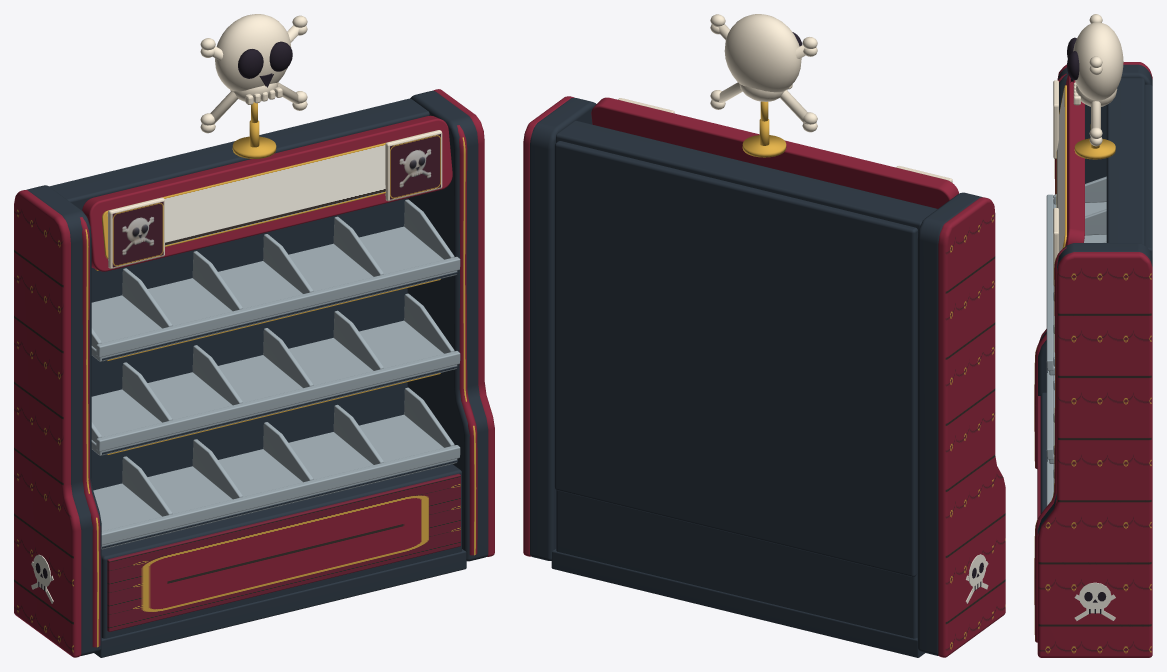
The model's file is TH_PIRATE.fbx.
3 views of the same model, side by side, from view 1: azimuth 30°, elevation 25°; view 2: azimuth 150°, elevation 25°; view 3: azimuth 270°, elevation 25° (orthographic). The views are drawn at different scales.
Parts seen in each view (by area): view 1: BaseFrontInset, Left_PaintedPanel, BackPanel.001, Right_StructuralWall, Tray_01, Tray_02, Tray_03, HeaderFace, HeaderBorder, TopCrossRail, Left_StructuralWall, ClosedSolidBase (+33 smaller); view 2: BackPanel.001, Left_PaintedPanel, ClosedSolidBase, Right_StructuralWall, HeaderBorder, Left_StructuralWall, TopCrossRail, LowerPlinth, Ivory skull, Right_PaintedPanel, TopperMount; view 3: Right_PaintedPanel, TopCrossRail, Ivory skull, HeaderBorder, Left_StructuralWall, HeaderFace, FrontLip_01, BackPanel.001, RightHousing, Right_StructuralWall, ClosedSolidBase, FrontLip_02 (+14 smaller).
Part boxes in pixels (x1=…): BaseFrontInset: x1=107, y1=473, x2=460, y2=631; Left_PaintedPanel: x1=14, y1=190, x2=81, y2=657; BackPanel.001: x1=91, y1=198, x2=407, y2=490; Right_StructuralWall: x1=407, y1=90, x2=488, y2=561; Tray_01: x1=91, y1=226, x2=457, y2=361; Tray_02: x1=91, y1=320, x2=457, y2=455; Tray_03: x1=93, y1=414, x2=457, y2=549; HeaderFace: x1=102, y1=131, x2=430, y2=258; HeaderBorder: x1=82, y1=115, x2=452, y2=271; TopCrossRail: x1=49, y1=98, x2=429, y2=210; Left_StructuralWall: x1=26, y1=185, x2=101, y2=655; ClosedSolidBase: x1=101, y1=464, x2=461, y2=638; BackPanel.001: x1=554, y1=141, x2=917, y2=576; Left_PaintedPanel: x1=938, y1=197, x2=1005, y2=657; ClosedSolidBase: x1=556, y1=490, x2=917, y2=638; Right_StructuralWall: x1=530, y1=97, x2=596, y2=560; HeaderBorder: x1=591, y1=97, x2=958, y2=208; Left_StructuralWall: x1=917, y1=192, x2=982, y2=655; TopCrossRail: x1=556, y1=120, x2=937, y2=235; LowerPlinth: x1=551, y1=549, x2=924, y2=657; Ivory skull: x1=724, y1=14, x2=801, y2=92; Right_PaintedPanel: x1=523, y1=96, x2=573, y2=556; TopperMount: x1=742, y1=135, x2=786, y2=157; Right_PaintedPanel: x1=1037, y1=252, x2=1152, y2=657; TopCrossRail: x1=1106, y1=78, x2=1144, y2=245; Ivory skull: x1=1073, y1=22, x2=1123, y2=100; HeaderBorder: x1=1065, y1=74, x2=1084, y2=246; Left_StructuralWall: x1=1038, y1=64, x2=1152, y2=395; HeaderFace: x1=1056, y1=85, x2=1066, y2=252; FrontLip_01: x1=1046, y1=194, x2=1053, y2=370; BackPanel.001: x1=1145, y1=84, x2=1152, y2=257; RightHousing: x1=1034, y1=247, x2=1066, y2=642; Right_StructuralWall: x1=1037, y1=243, x2=1152, y2=534; ClosedSolidBase: x1=1040, y1=392, x2=1046, y2=513; FrontLip_02: x1=1046, y1=362, x2=1053, y2=459.
Bounding box in the file's own units: 3.63 × 4.68 × 0.9273.
